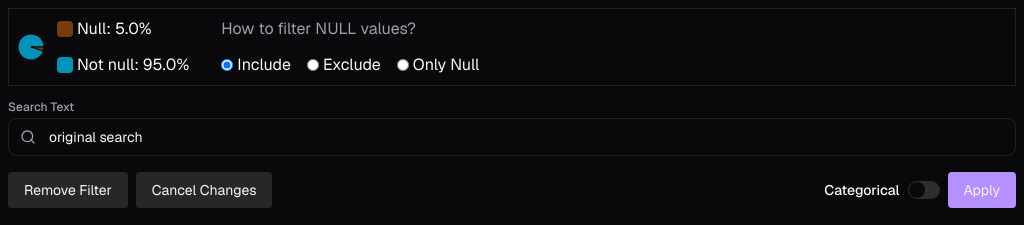
Test: TextFilterCard › should reset filter when cancel is clicked
Note: Change the search term
Replace the text in the field with placeholder "Enter search term..." with "changed search". click: (512, 137)
box: [8, 118, 1016, 156]
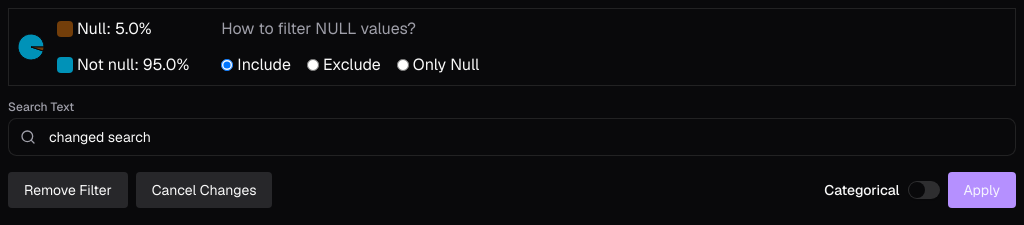
Note: Click cancel
Click the button "Cancel Changes". click: (204, 190)
box: [136, 172, 272, 208]
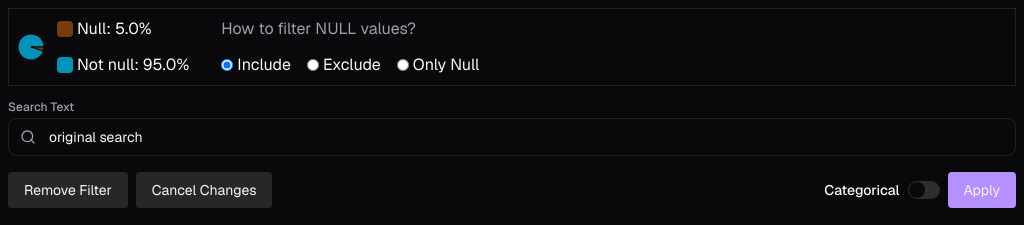
Expected: the field showing "original search" is shown, [8, 118, 1016, 156]
